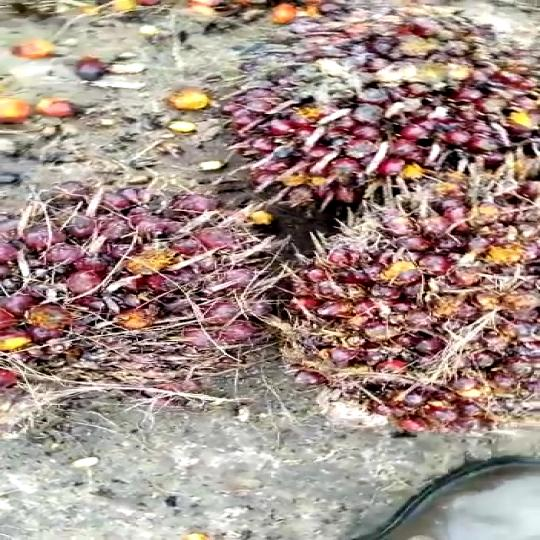masak: (179, 18, 540, 224), (0, 165, 281, 412), (286, 166, 540, 428)
